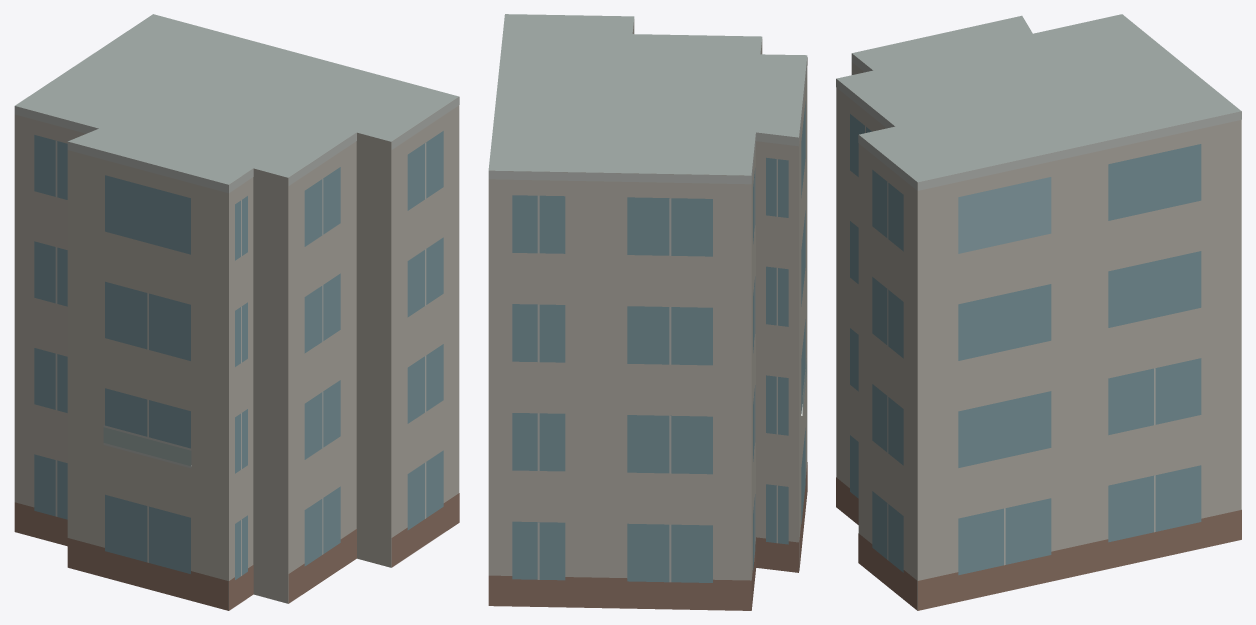
Rendered from residential-6d98fadc-8f22-44e8-99c8-fdb6cd1c43a1.glb.
The picture shows the model from 3 angles, left to right: view 1: azimuth 30°, elevation 25°; view 2: azimuth 150°, elevation 25°; view 3: azimuth 270°, elevation 25°; orthographic projection. The views are drawn at different scales.
Visible parts, largest first — view 1: residential-6d98fadc-8f22-44e8-99c8-fdb6cd1c43a1.tmp; view 2: residential-6d98fadc-8f22-44e8-99c8-fdb6cd1c43a1.tmp; view 3: residential-6d98fadc-8f22-44e8-99c8-fdb6cd1c43a1.tmp.
Boxes of the visible parts, bbox=[...] form: residential-6d98fadc-8f22-44e8-99c8-fdb6cd1c43a1.tmp: bbox=[14, 14, 459, 610]; residential-6d98fadc-8f22-44e8-99c8-fdb6cd1c43a1.tmp: bbox=[488, 14, 807, 610]; residential-6d98fadc-8f22-44e8-99c8-fdb6cd1c43a1.tmp: bbox=[836, 14, 1241, 610].
Bounding box in the file's own units: 10.29 × 12.2 × 10.47.
